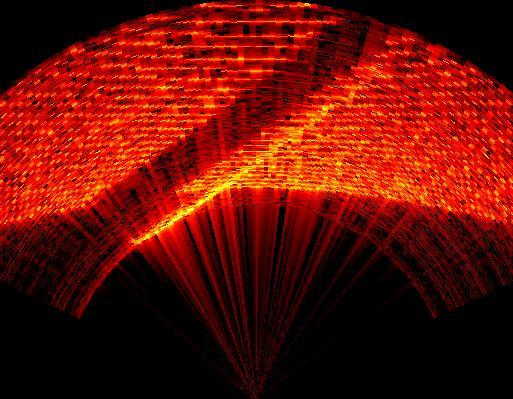pipe: (90, 14, 406, 237)
